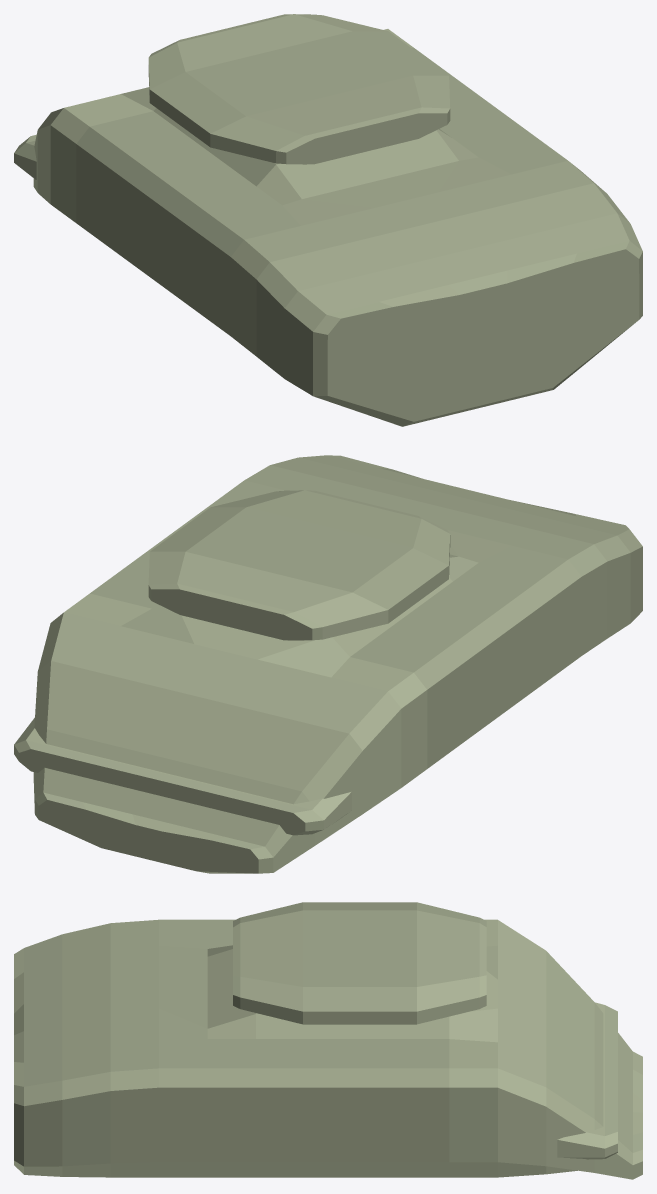
File: hartmann_heavy_b.glb
3 views of the same model, one above another, from view 1: azimuth 30°, elevation 25°; view 2: azimuth 150°, elevation 25°; view 3: azimuth 270°, elevation 25° (orthographic). The views are drawn at different scales.
Visible parts, largest first — view 1: hartmann_heavy_b; view 2: hartmann_heavy_b; view 3: hartmann_heavy_b.
Boxes of the visible parts, x1,y1,x2,y2 form: hartmann_heavy_b: [14, 14, 642, 426]; hartmann_heavy_b: [14, 455, 642, 873]; hartmann_heavy_b: [14, 902, 642, 1179].
Bounding box in the file's own units: 4.6 × 2.55 × 7.6.
